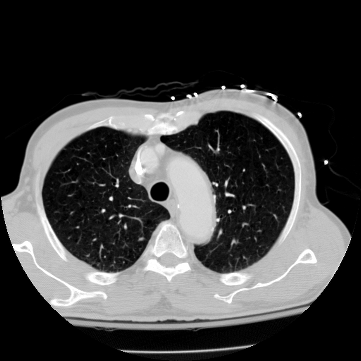nodule: (139, 237, 143, 241)
